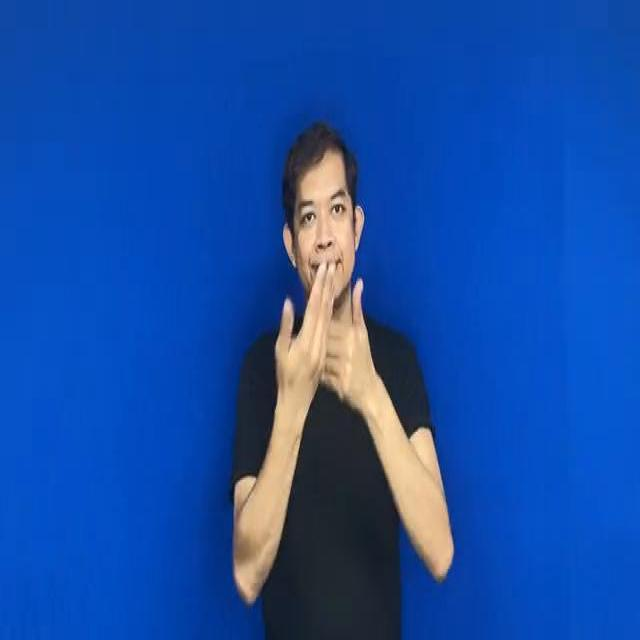bread: (263, 248, 382, 440)
